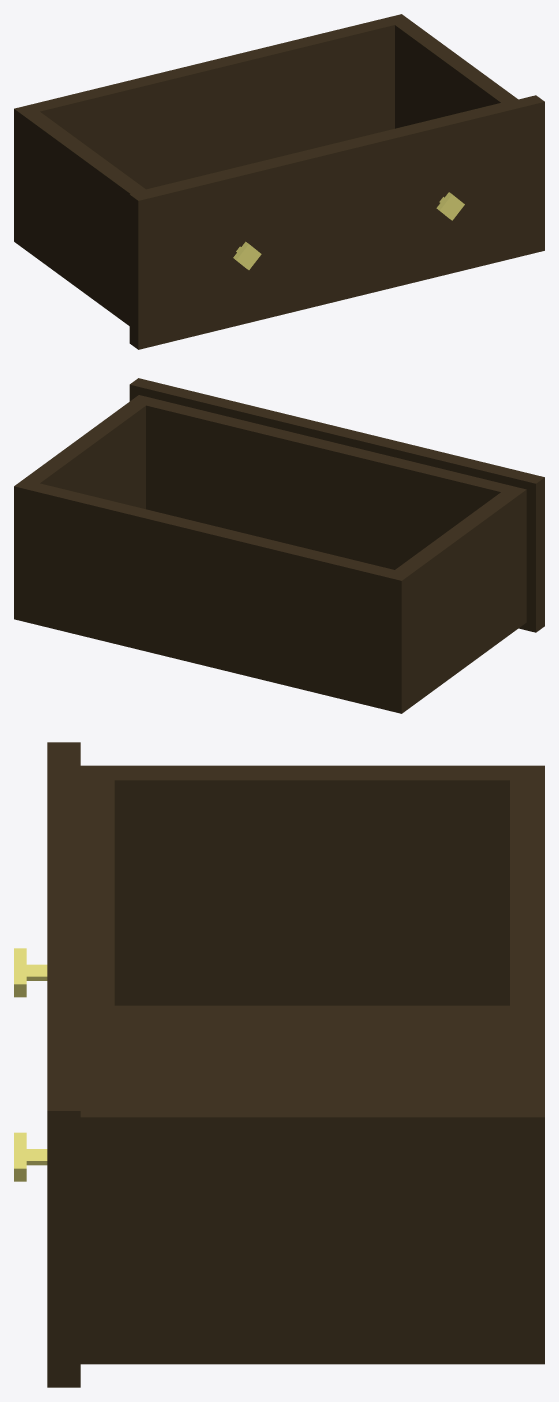
Rendered from Itr_Wardrobe2_Drawer_Big_02.FBX.
The picture shows the model from 3 angles, top to bottom: view 1: azimuth 30°, elevation 25°; view 2: azimuth 150°, elevation 25°; view 3: azimuth 270°, elevation 25°; orthographic projection. The views are drawn at different scales.
Parts seen in each view (by area): view 1: Itr_Wardrobe2_Drawer_Big_02; view 2: Itr_Wardrobe2_Drawer_Big_02; view 3: Itr_Wardrobe2_Drawer_Big_02.
Part boxes in pixels (x1,y1,x2,y2): Itr_Wardrobe2_Drawer_Big_02: (14,14,544,349); Itr_Wardrobe2_Drawer_Big_02: (14,378,544,713); Itr_Wardrobe2_Drawer_Big_02: (14,742,544,1387).
Size of the model in its own units: 37.86 by 13.26 by 23.04.
